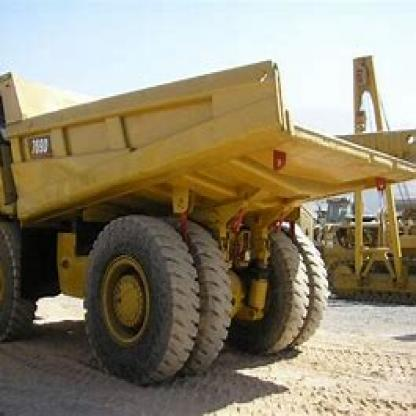dump_truck: (5, 50, 405, 383)
